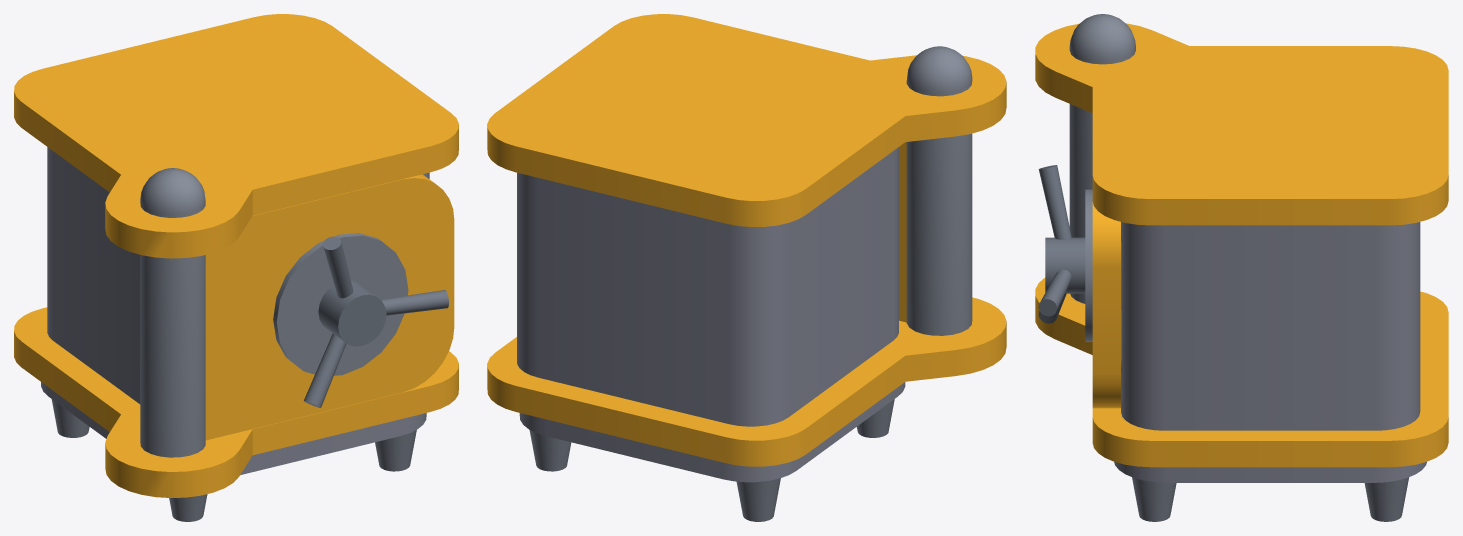
Rendered from Safebox B.fbx.
3 views of the same model, side by side, from view 1: azimuth 30°, elevation 25°; view 2: azimuth 150°, elevation 25°; view 3: azimuth 270°, elevation 25° (orthographic).
Visible parts, largest first — view 1: Safebox B.001, Safebox B.008, Safebox B.003; view 2: Safebox B.001, Safebox B.008; view 3: Safebox B.001, Safebox B.008, Safebox B.003.
Boxes of the visible parts, box(x1,y1,x2,y2) form: Safebox B.001: box(14, 14, 458, 521); Safebox B.008: box(140, 168, 454, 457); Safebox B.003: box(273, 233, 448, 407); Safebox B.001: box(487, 14, 1006, 521); Safebox B.008: box(899, 46, 972, 335); Safebox B.001: box(1035, 23, 1448, 521); Safebox B.008: box(1069, 14, 1135, 408); Safebox B.003: box(1038, 165, 1092, 341).
Size of the model in its own units: 2.17 by 2.15 by 2.14.
